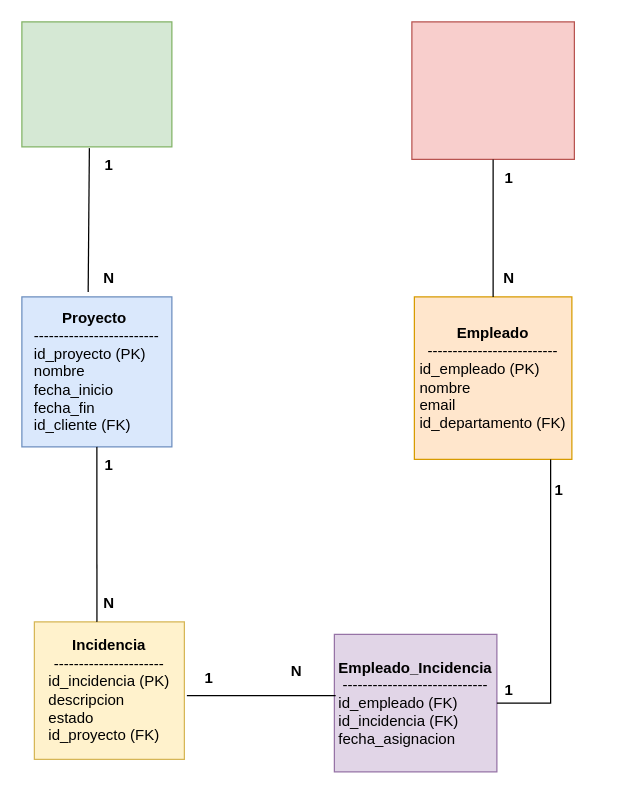
This 619x794 diagram has some shape labels left out. Each missing label, with the centre of its shape:
Cliente --------------------------- id_cliente (PK) nombre email telefono: (96,84)
Departamento ----------------------------- id_departamento (PK) nombre: (492,90)
